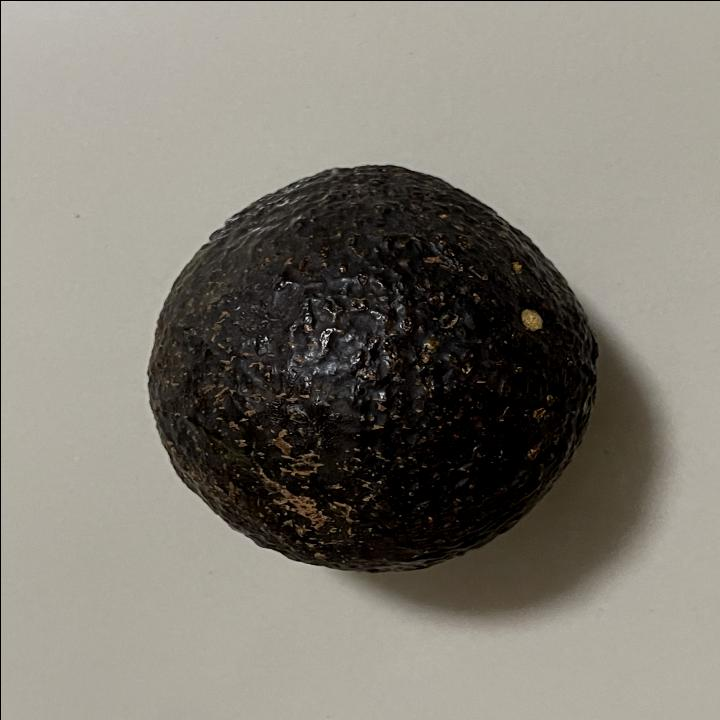Level3: (135, 153, 606, 578)
